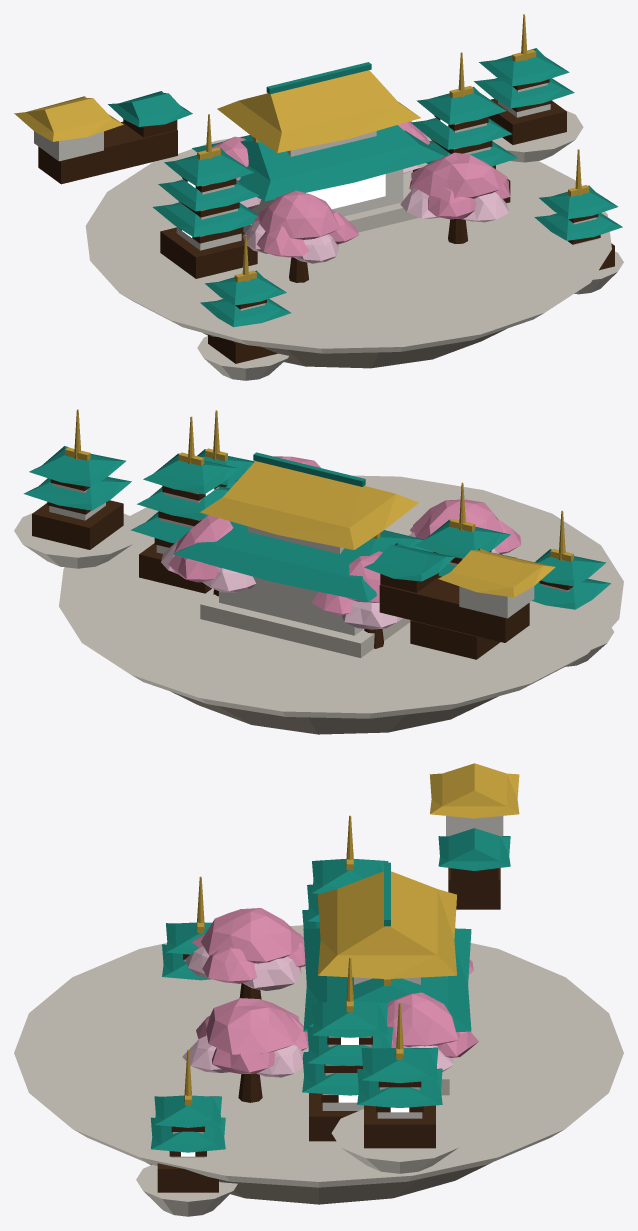
Rendered from heaven.glb.
3 views of the same model, one above another, from view 1: azimuth 30°, elevation 25°; view 2: azimuth 150°, elevation 25°; view 3: azimuth 270°, elevation 25° (orthographic). The views are drawn at different scales.
Parts seen in each view (by area): view 1: HeavenBhavaAgra_Opaque, HeavenBhavaAgra_Emissive; view 2: HeavenBhavaAgra_Opaque; view 3: HeavenBhavaAgra_Opaque.
Part boxes in pixels (x1,y1,x2,y2): HeavenBhavaAgra_Opaque: (14,14,623,380); HeavenBhavaAgra_Emissive: (182,119,448,237); HeavenBhavaAgra_Opaque: (14,409,623,734); HeavenBhavaAgra_Opaque: (14,763,623,1216).
Bounding box in the file's own units: 54.5 × 24.86 × 49.
